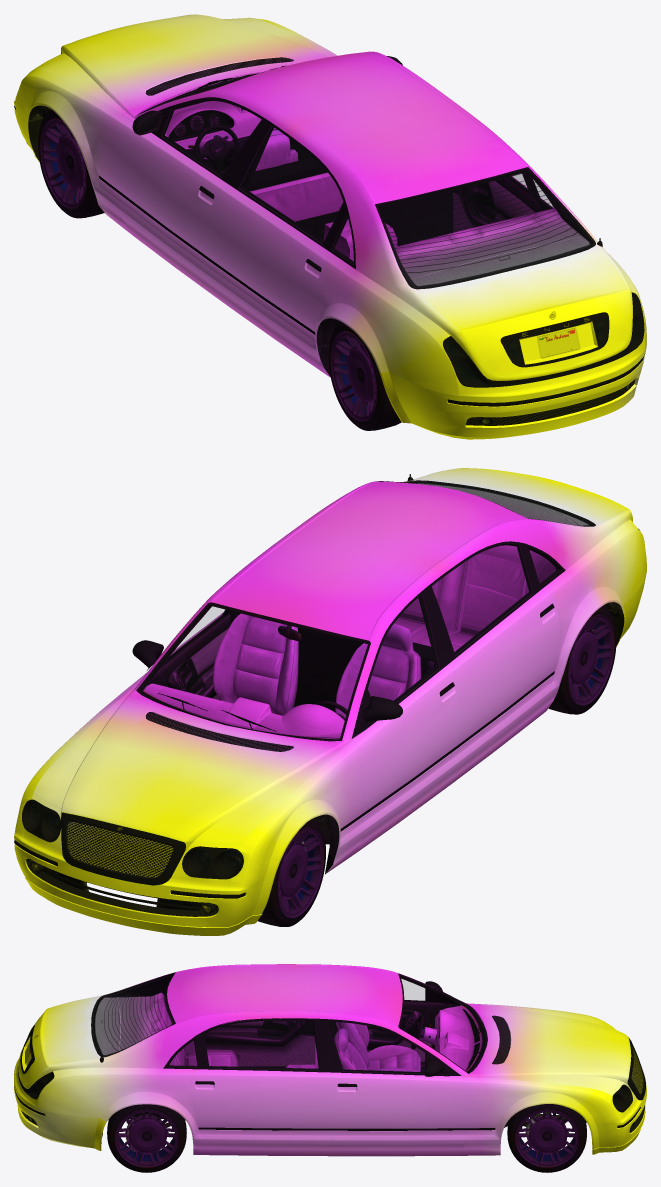
Rendered from cognoscenti.glb.
The picture shows the model from 3 angles, top to bottom: view 1: azimuth 30°, elevation 25°; view 2: azimuth 150°, elevation 25°; view 3: azimuth 270°, elevation 25°; orthographic projection. The views are drawn at different scales.
Visible parts, largest first — view 1: bodyshell, chassis, boot, bonnet, windscreen_r, door_dside_r, door_dside_f, bumper_r, wing_lf, window_lr, wheel_lr, window_lf (+4 smaller); view 2: bodyshell, chassis, bonnet, door_dside_f, door_dside_r, bumper_f, wing_lf, window_lr, wheel_lf, wheel_lr, window_lf, door_pside_f (+5 smaller); view 3: bodyshell, door_pside_r, door_pside_f, chassis, bonnet, wing_rf, window_rr, wheel_rr, wheel_rf, door_dside_r, windscreen_r, boot (+6 smaller).
Part boxes in pixels (x1=…): bodyshell: x1=32, y1=48, x2=646, y2=397; chassis: x1=37, y1=65, x2=630, y2=425; boot: x1=419, y1=249, x2=629, y2=375; bonnet: x1=34, y1=14, x2=333, y2=121; windscreen_r: x1=377, y1=170, x2=592, y2=287; door_dside_r: x1=210, y1=122, x2=346, y2=354; door_dside_f: x1=115, y1=97, x2=268, y2=285; bumper_r: x1=380, y1=346, x2=646, y2=439; wing_lf: x1=14, y1=69, x2=133, y2=235; window_lr: x1=241, y1=127, x2=342, y2=242; wheel_lr: x1=328, y1=322, x2=401, y2=430; window_lf: x1=164, y1=101, x2=260, y2=175; bodyshell: x1=21, y1=468, x2=646, y2=891; chassis: x1=42, y1=483, x2=623, y2=910; bonnet: x1=33, y1=686, x2=353, y2=843; door_dside_f: x1=352, y1=587, x2=461, y2=836; door_dside_r: x1=427, y1=542, x2=560, y2=766; bumper_f: x1=14, y1=836, x2=274, y2=935; wing_lf: x1=226, y1=740, x2=364, y2=891; window_lr: x1=432, y1=545, x2=531, y2=653; wheel_lf: x1=258, y1=818, x2=325, y2=926; wheel_lr: x1=548, y1=605, x2=616, y2=714; window_lf: x1=368, y1=596, x2=437, y2=700; door_pside_f: x1=126, y1=599, x2=231, y2=700; bodyshell: x1=14, y1=964, x2=645, y2=1156; door_pside_r: x1=191, y1=1018, x2=335, y2=1144; door_pside_f: x1=318, y1=1019, x2=469, y2=1144; chassis: x1=27, y1=976, x2=586, y2=1139; bonnet: x1=461, y1=1003, x2=630, y2=1093; wing_rf: x1=461, y1=1077, x2=627, y2=1155; window_rr: x1=204, y1=1021, x2=318, y2=1069; wheel_rr: x1=107, y1=1104, x2=186, y2=1172; wheel_rf: x1=507, y1=1104, x2=586, y2=1172; door_dside_r: x1=204, y1=1020, x2=315, y2=1067; windscreen_r: x1=93, y1=974, x2=174, y2=1056; boot: x1=19, y1=997, x2=95, y2=1084.
Size of the model in its own units: 2.06 by 1.61 by 6.16.
Materials: 20 (20 with a texture image).
